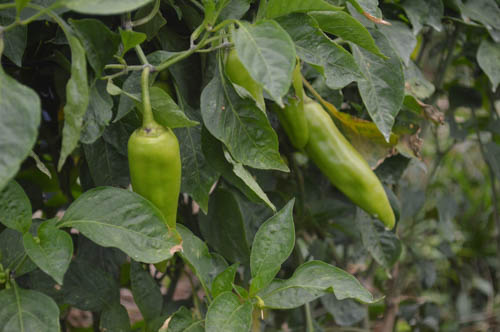ChiliPepper: (298, 104, 394, 228), (127, 132, 181, 237), (275, 63, 306, 147)
